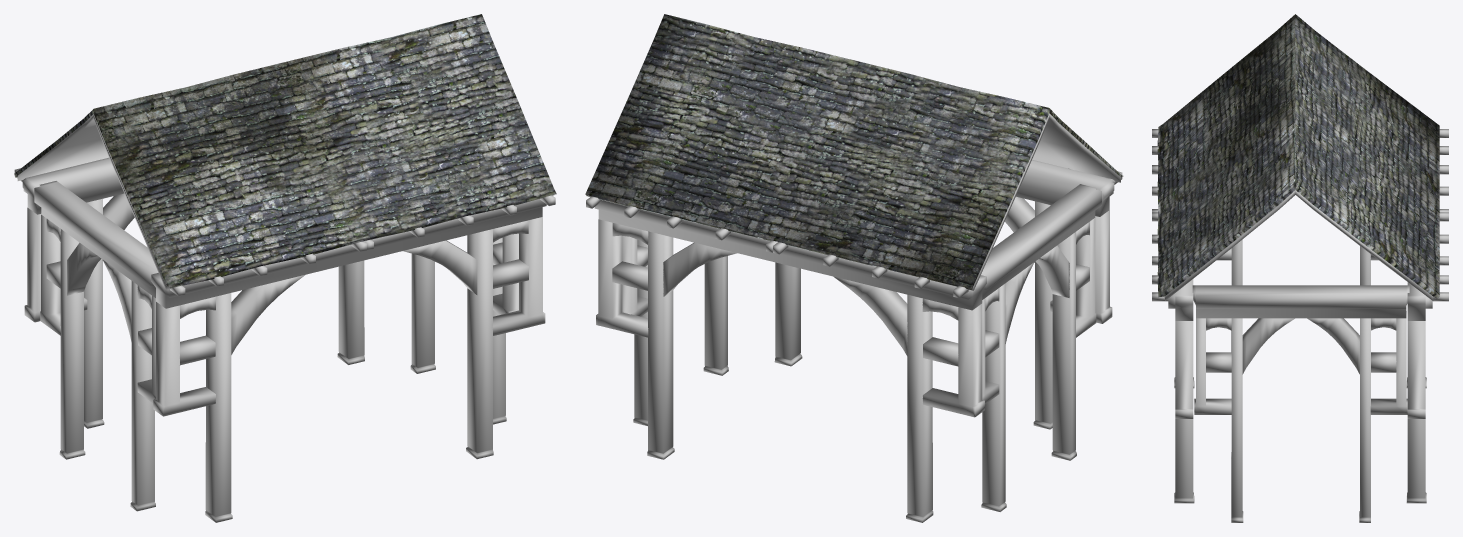
The model's file is churchgate.fbx.
3 views of the same model, side by side, from view 1: azimuth 30°, elevation 25°; view 2: azimuth 150°, elevation 25°; view 3: azimuth 270°, elevation 25° (orthographic). The views are drawn at different scales.
Parts seen in each view (by area): view 1: U3DMesh; view 2: U3DMesh; view 3: U3DMesh.
Boxes of the visible parts, <box> form: U3DMesh: <box>14,14,556,522</box>; U3DMesh: <box>585,14,1123,522</box>; U3DMesh: <box>1152,14,1448,522</box>.
Bounding box in the file's own units: 153 × 142 × 112.
